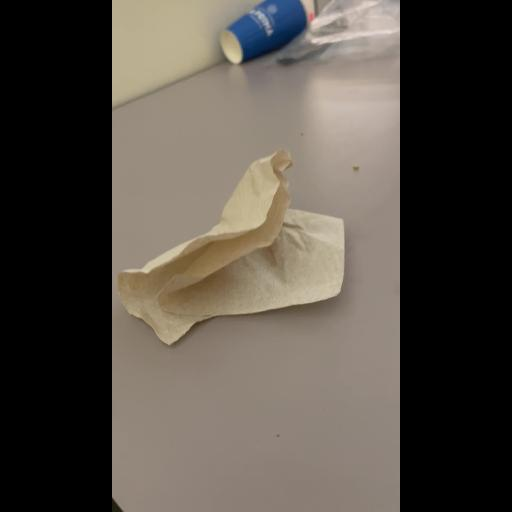lp_paper_cup: (220, 0, 308, 68)
napkin: (112, 149, 340, 343)
